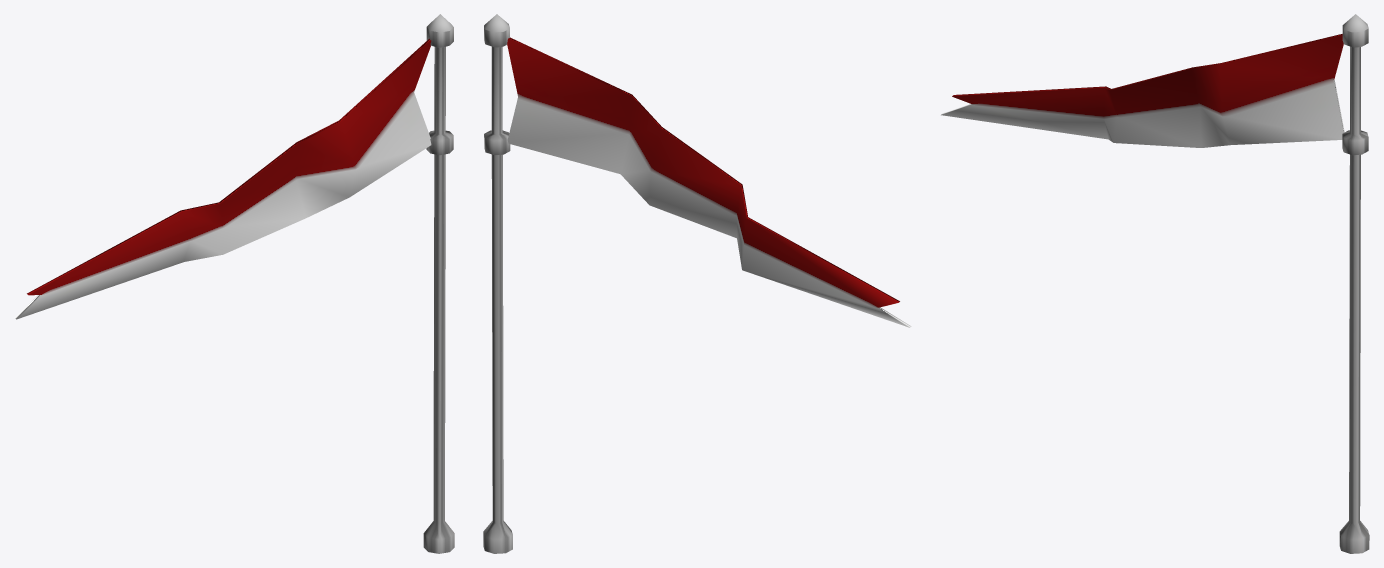
The model's file is ARC0510152.fbx.
The picture shows the model from 3 angles, left to right: view 1: azimuth 30°, elevation 25°; view 2: azimuth 150°, elevation 25°; view 3: azimuth 330°, elevation 25°; orthographic projection.
Visible parts, largest first — view 1: smARC0510152; view 2: smARC0510152; view 3: smARC0510152.
Part boxes in pixels (<box>): smARC0510152: <box>14,14,454,553</box>; smARC0510152: <box>483,14,911,553</box>; smARC0510152: <box>941,14,1369,553</box>.
Bounding box in the file's own units: 285 × 337 × 39.46.
1 material, 1 textured.
